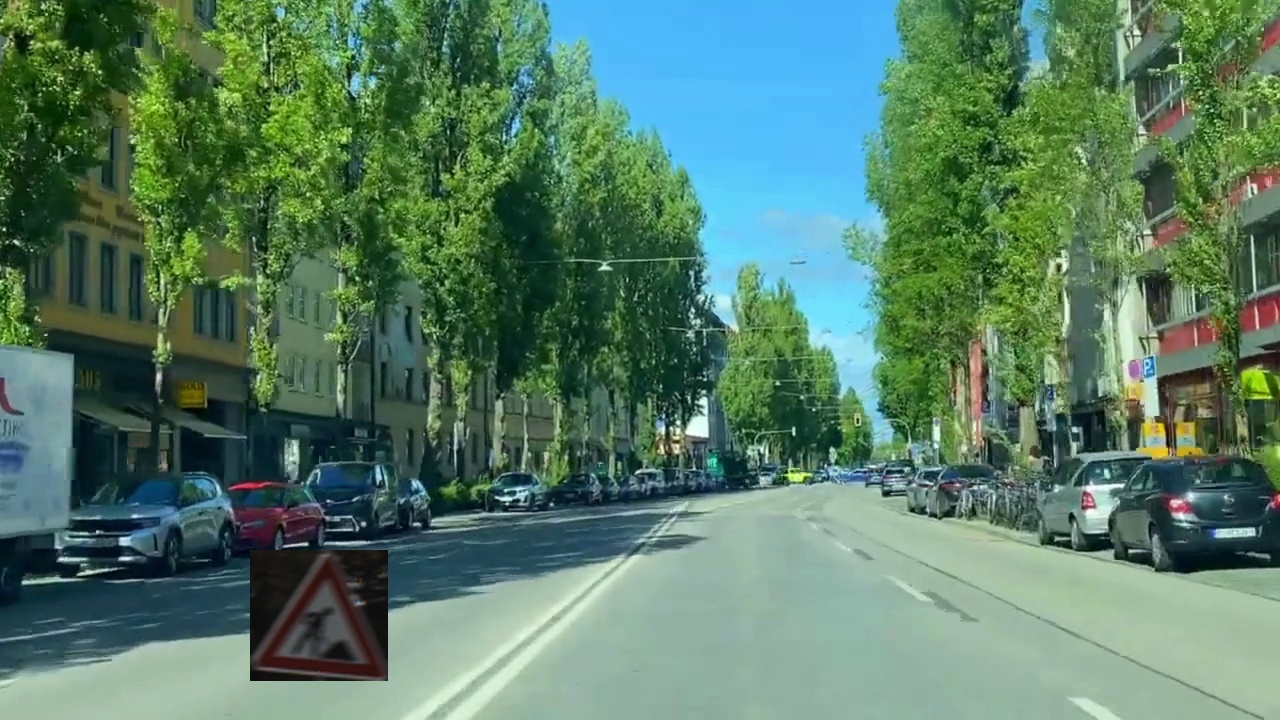Road work: (250, 550, 388, 681)
